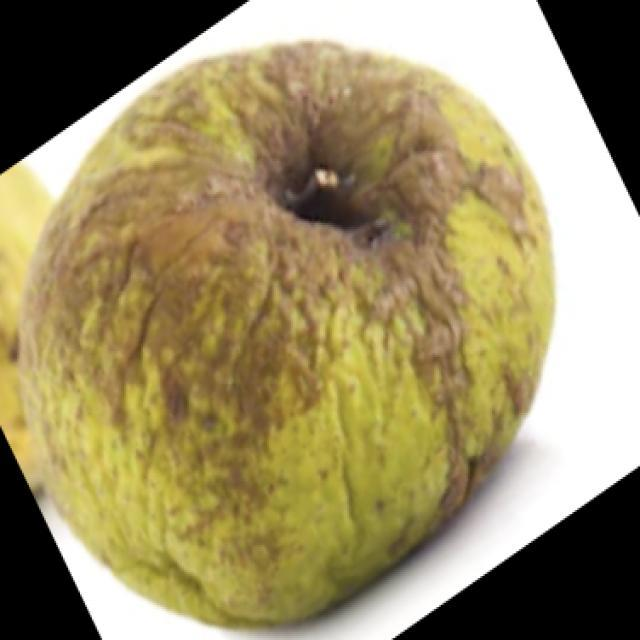Rotten: (32, 49, 540, 614)
